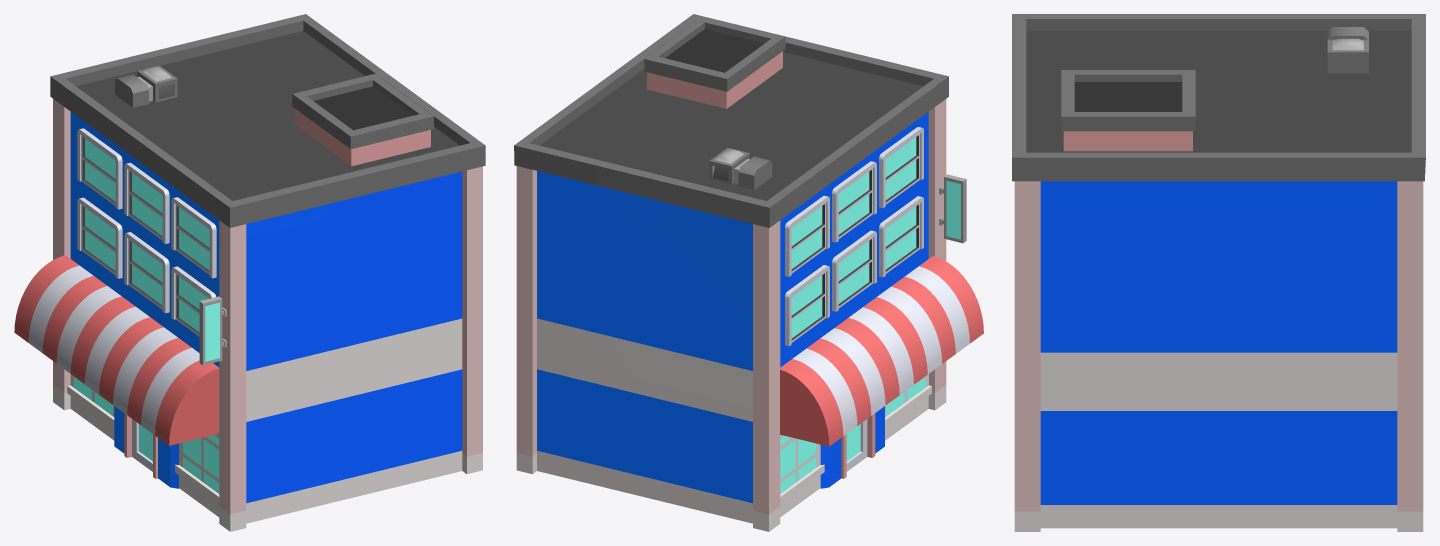
File: House_03.FBX
The picture shows the model from 3 angles, left to right: view 1: azimuth 30°, elevation 25°; view 2: azimuth 150°, elevation 25°; view 3: azimuth 270°, elevation 25°; orthographic projection. The views are drawn at different scales.
Visible parts, largest first — view 1: House_03; view 2: House_03; view 3: House_03.
Boxes of the visible parts, left/top/right/bottom form: House_03: left=14, top=14, right=485, bottom=531; House_03: left=514, top=14, right=983, bottom=531; House_03: left=1012, top=14, right=1425, bottom=531.
Size of the model in its own units: 19.84 by 20.34 by 21.64.
